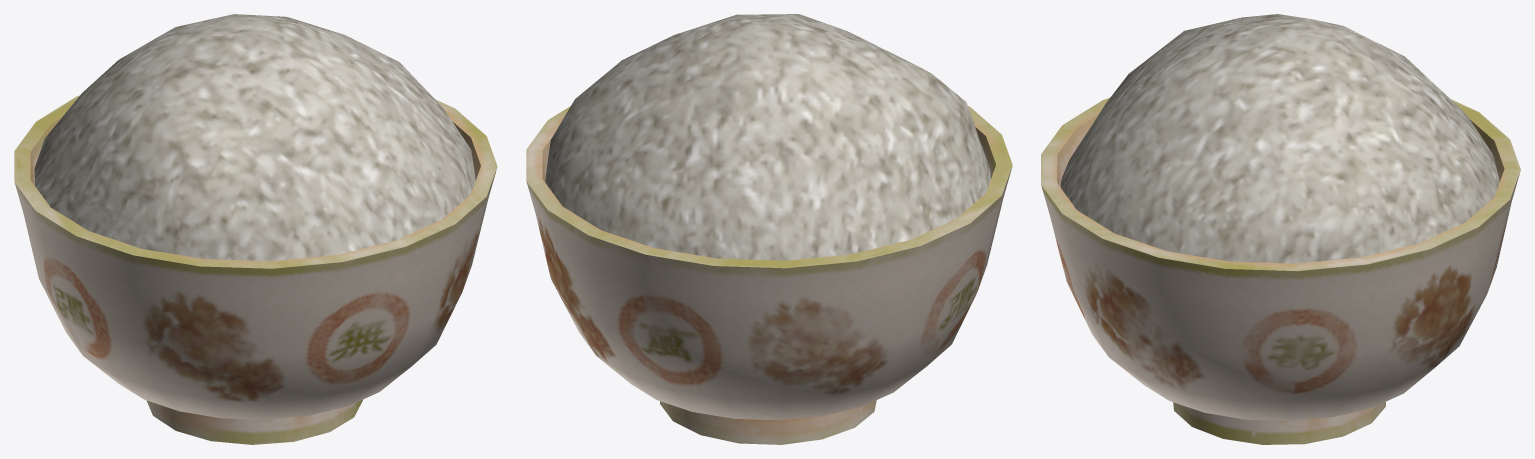
File: M_RiceBowl_01.FBX
The picture shows the model from 3 angles, left to right: view 1: azimuth 30°, elevation 25°; view 2: azimuth 150°, elevation 25°; view 3: azimuth 270°, elevation 25°; orthographic projection.
Parts seen in each view (by area): view 1: M_RiceBowl_01; view 2: M_RiceBowl_01; view 3: M_RiceBowl_01.
Part boxes in pixels (bbox=[...]): M_RiceBowl_01: bbox=[14, 14, 497, 444]; M_RiceBowl_01: bbox=[526, 14, 1012, 444]; M_RiceBowl_01: bbox=[1041, 14, 1520, 444].
Size of the model in its own units: 9.97 by 9.94 by 8.39.
